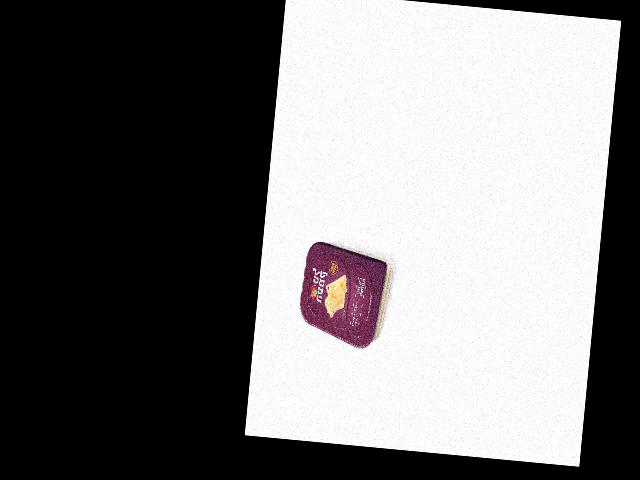cheese: (295, 240, 394, 351)
